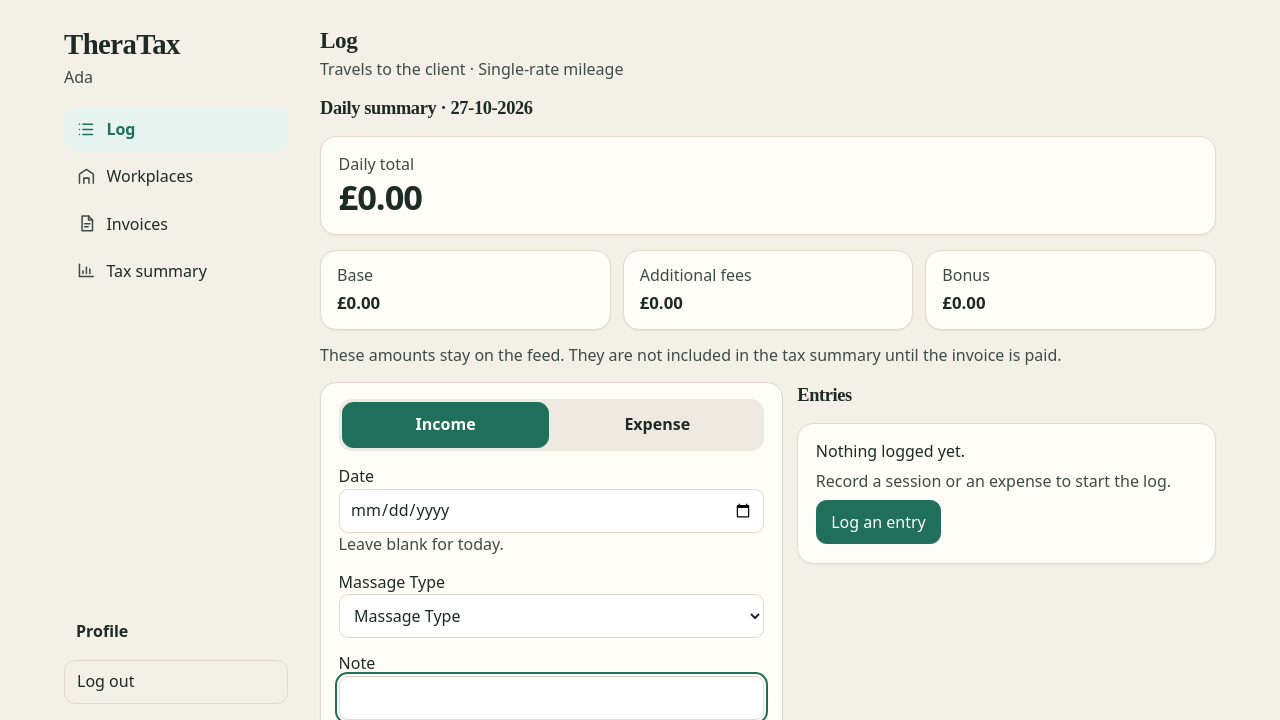
session › revokes the session when logging out
Click the button "Log out" at (176, 682), box [64,660,288,704]
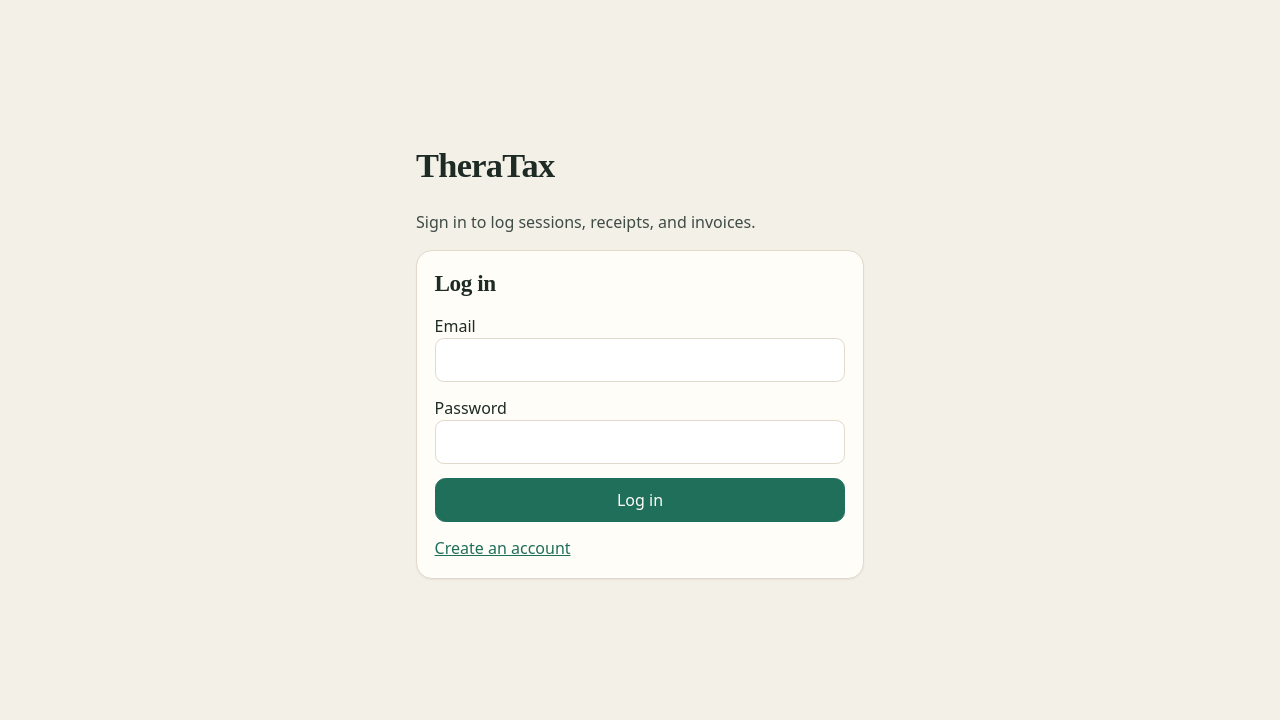
Check: the heading "Log in" is shown, box [435,270,496,296]
